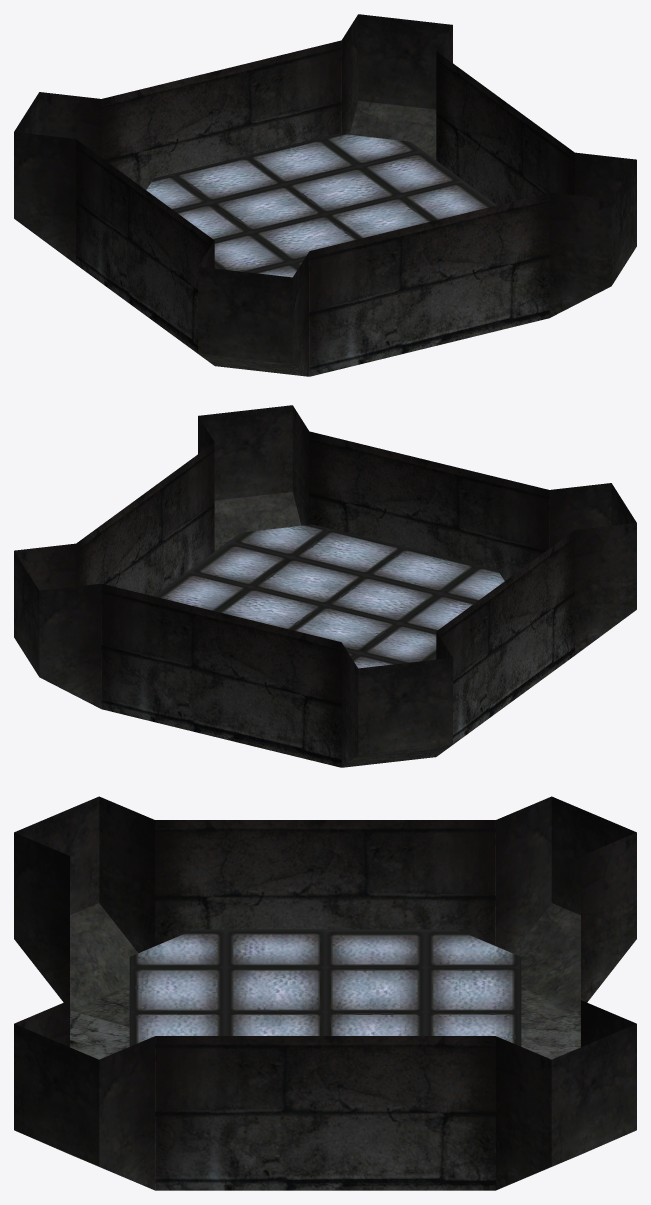
The model's file is window.dae.
3 views of the same model, one above another, from view 1: azimuth 30°, elevation 25°; view 2: azimuth 150°, elevation 25°; view 3: azimuth 270°, elevation 25° (orthographic). The views are drawn at different scales.
Visible parts, largest first — view 1: polySurface4, polySurface5; view 2: polySurface4, polySurface5; view 3: polySurface4, polySurface5.
Part boxes in pixels (x1,y1,x2,y2): polySurface4: [14, 14, 636, 376]; polySurface5: [146, 133, 496, 277]; polySurface4: [14, 405, 636, 767]; polySurface5: [154, 524, 504, 668]; polySurface4: [14, 796, 636, 1190]; polySurface5: [129, 929, 521, 1046].
Size of the model in its own units: 3.66 by 1 by 3.66.
